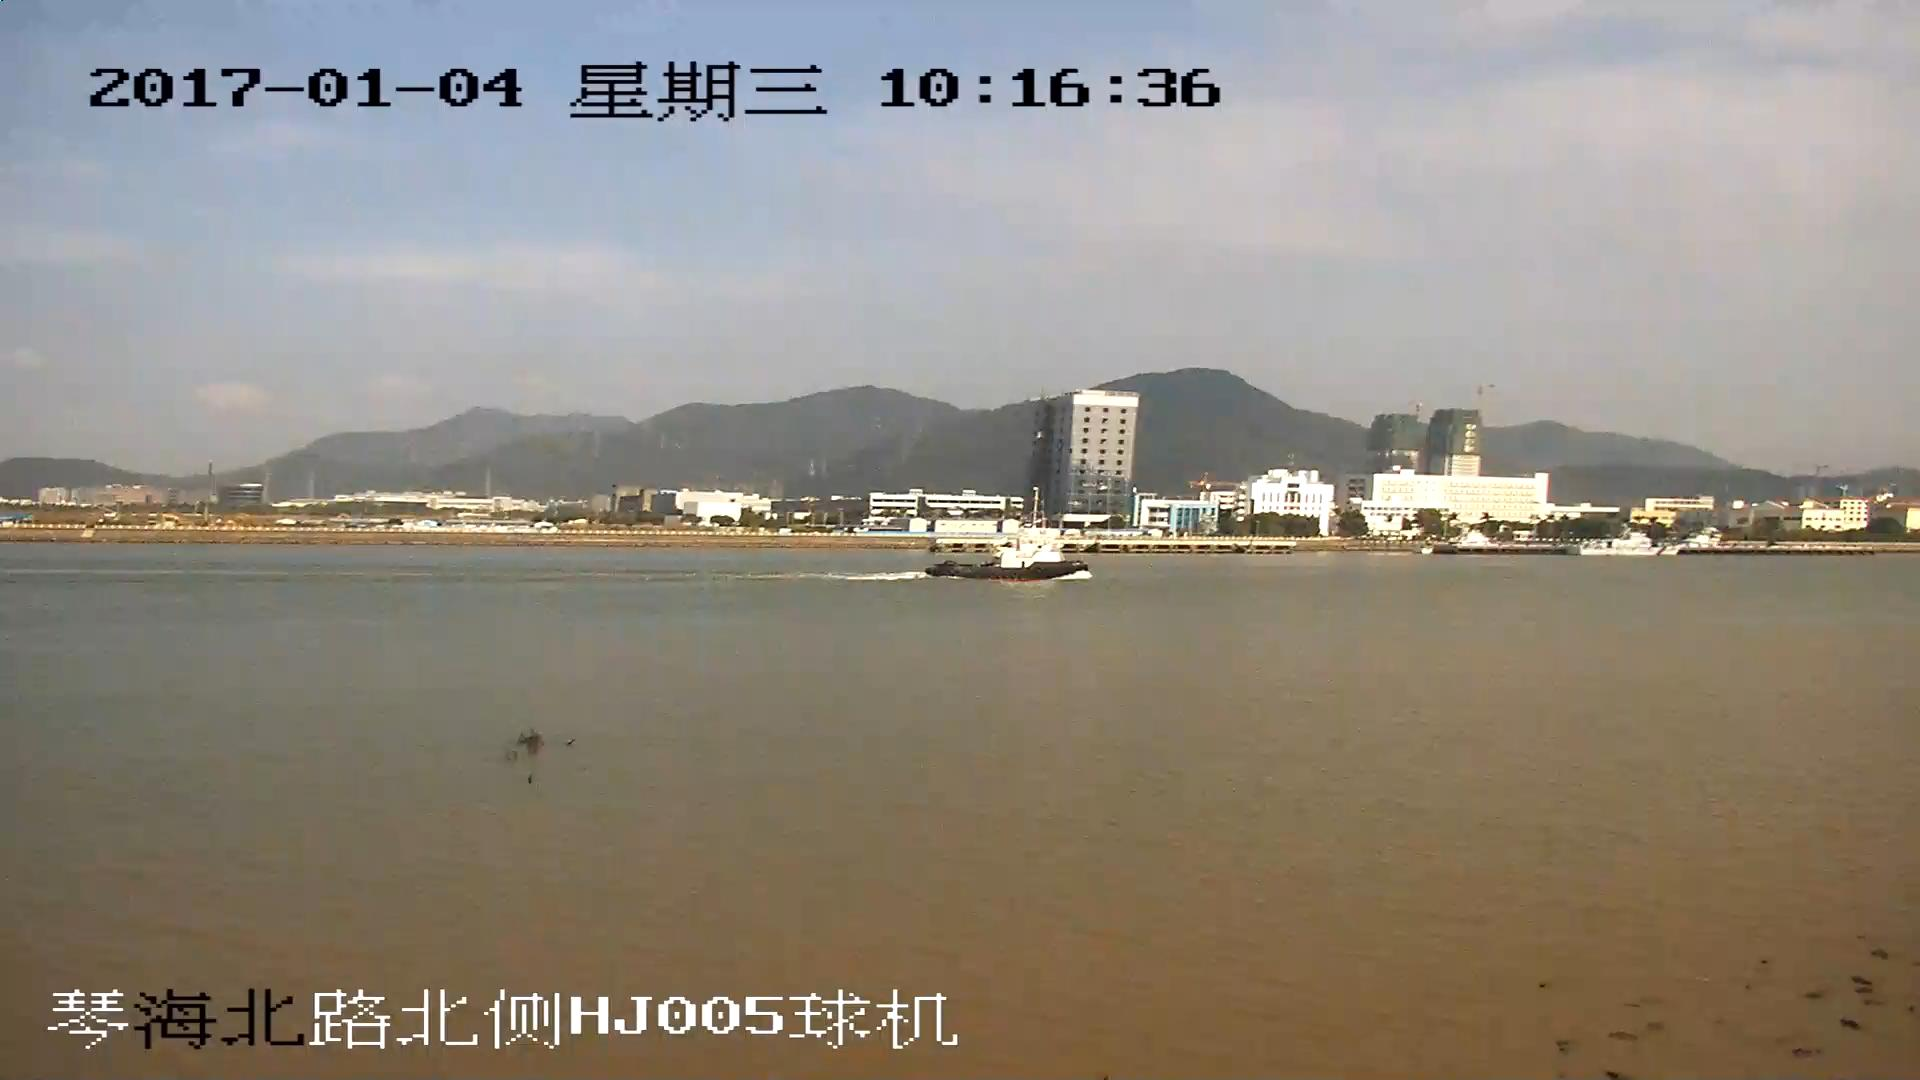fishing boat: (936, 502, 1089, 583)
